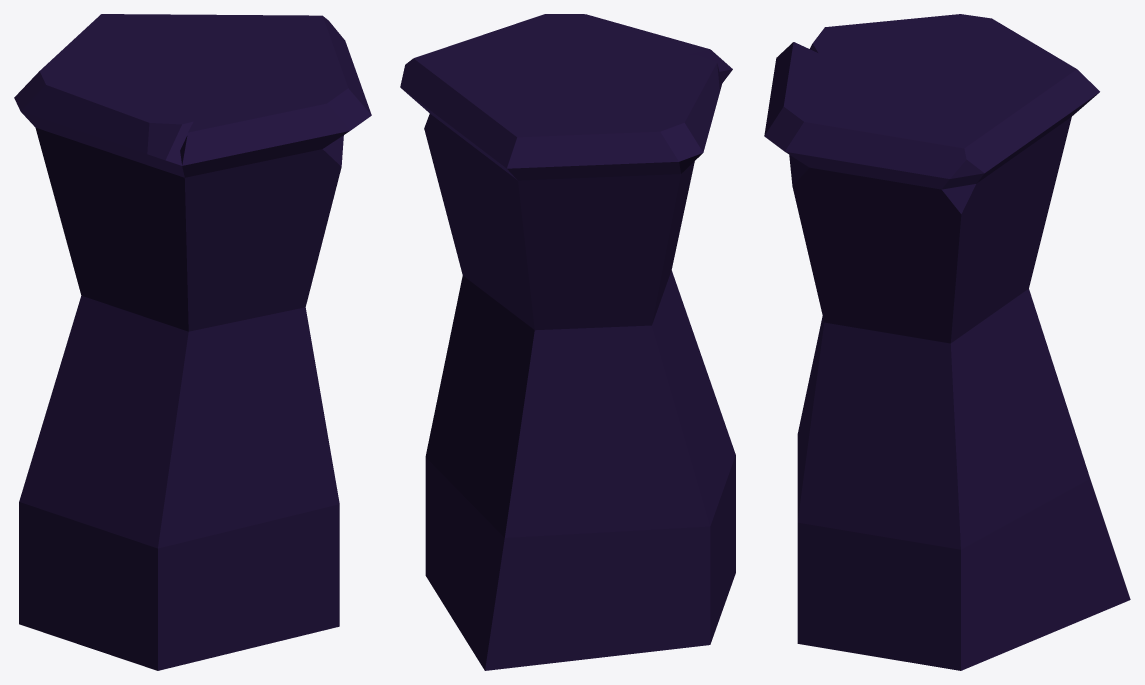
The model's file is groundElevated_002_grp.fbx.
3 views of the same model, side by side, from view 1: azimuth 30°, elevation 25°; view 2: azimuth 150°, elevation 25°; view 3: azimuth 270°, elevation 25° (orthographic). The views are drawn at different scales.
Visible parts, largest first — view 1: groundElevated_002_grp; view 2: groundElevated_002_grp; view 3: groundElevated_002_grp.
Part boxes in pixels (bbox=[...]): groundElevated_002_grp: bbox=[14, 14, 371, 670]; groundElevated_002_grp: bbox=[400, 14, 735, 670]; groundElevated_002_grp: bbox=[764, 14, 1130, 670].
Bounding box in the file's own units: 125 × 200 × 125.
